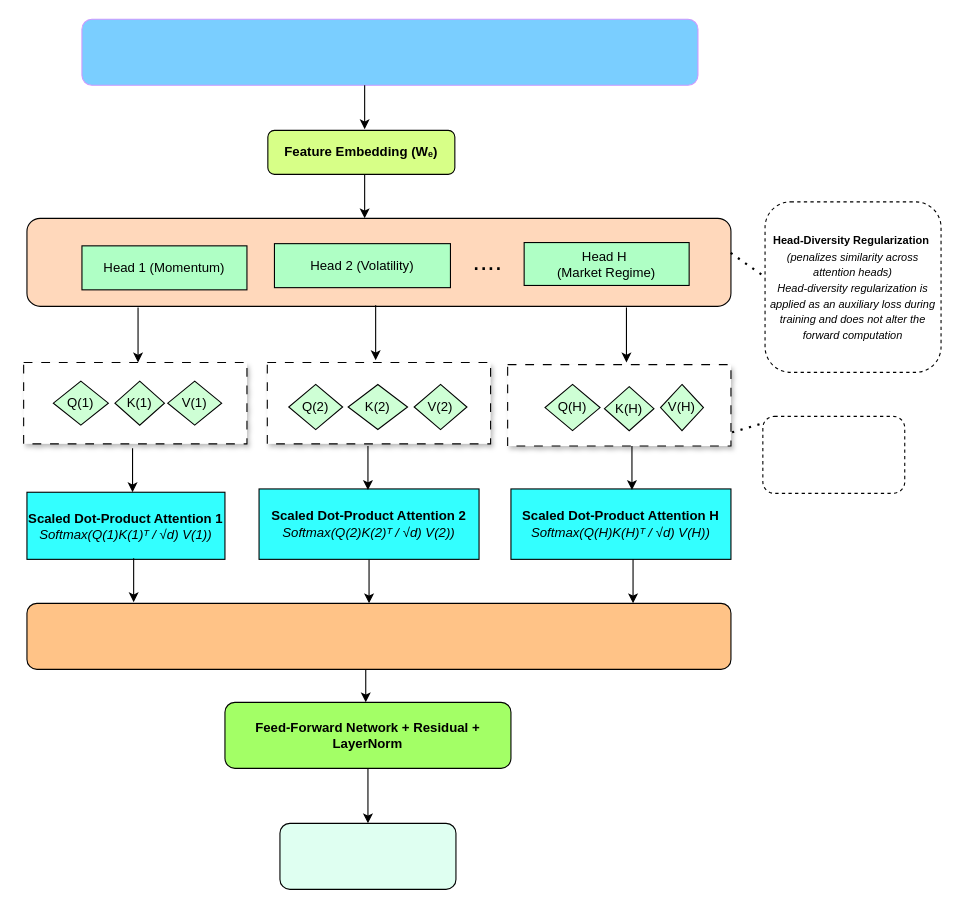
Some shapes in this 960 by 909 pixel diagram are drawn without their labels. Here are the shapes that lost their labels. From the top down, the centre of each, then its label:
At [389,51]: "22 Input Features (Cross-sectional Data)".
At [833,454]: "Q, K, V are learned linear projections of embedded feature tokens".
At [378,635]: "Concatenation + Output Projection (Wᴼ)".
At [367,855]: "Expected Return (%)".
